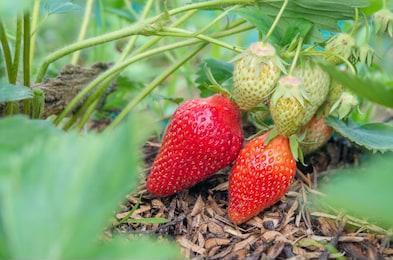Fresa: (141, 82, 247, 205), (225, 119, 298, 229)
